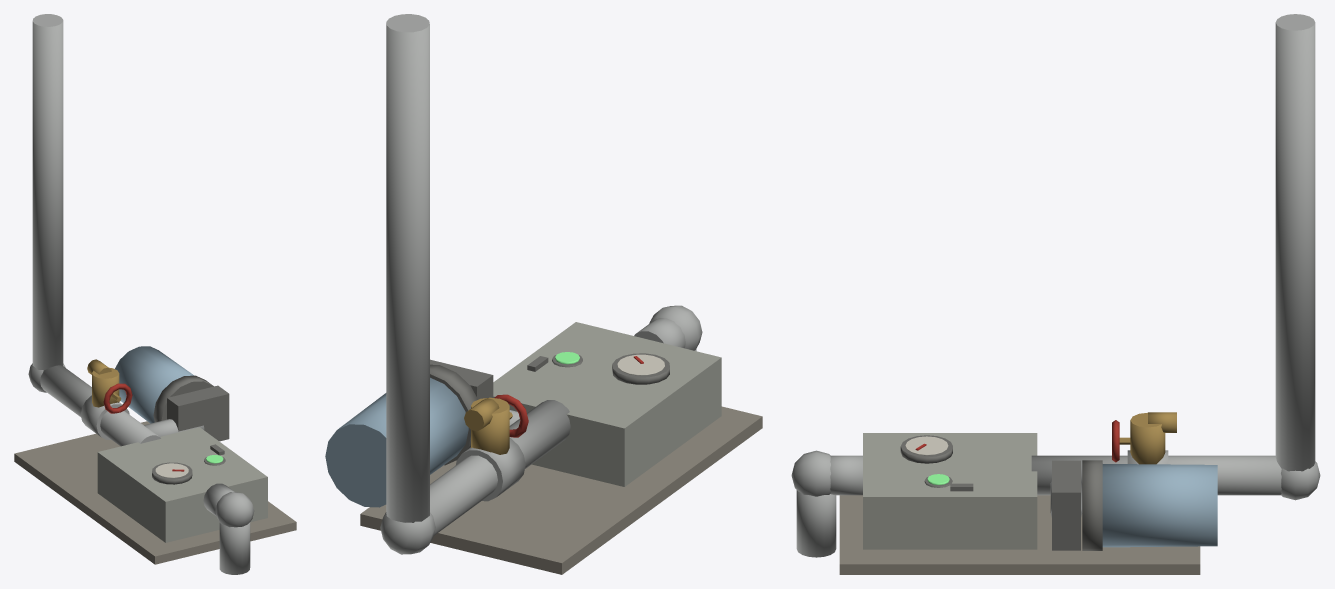
File: house_inlet_filter.obj
The picture shows the model from 3 angles, left to right: view 1: azimuth 30°, elevation 25°; view 2: azimuth 150°, elevation 25°; view 3: azimuth 270°, elevation 25°; orthographic projection. The views are drawn at different scales.
Visible parts, largest first — view 1: inlet_box, feed, backboard, filter_bowl, riser, filter_head, to_wall, to_wall_elbow, filter_ring, bib_body, bib_tee, to_wall_nipple (+4 smaller); view 2: feed, inlet_box, backboard, filter_bowl, riser, feed_elbow, bib_tee, bib_body, filter_ring, to_wall_elbow, to_wall_nipple, filter_head (+3 smaller); view 3: inlet_box, feed, backboard, filter_bowl, riser, filter_head, to_wall, filter_ring, to_wall_elbow, bib_body, to_wall_nipple, feed_elbow.
Part boxes in pixels (<box>): inlet_box: <box>97,427,267,542</box>; feed: <box>32,14,63,370</box>; backboard: <box>14,421,296,564</box>; filter_bowl: <box>115,346,193,423</box>; riser: <box>40,365,160,446</box>; filter_head: <box>167,385,229,441</box>; to_wall: <box>219,522,250,574</box>; to_wall_elbow: <box>215,492,254,527</box>; filter_ring: <box>153,375,213,422</box>; bib_body: <box>92,367,119,407</box>; bib_tee: <box>80,395,129,439</box>; to_wall_nipple: <box>203,483,234,516</box>; feed: <box>386,14,429,522</box>; inlet_box: <box>493,322,721,486</box>; backboard: <box>360,406,762,574</box>; filter_bowl: <box>325,377,468,507</box>; riser: <box>430,400,570,535</box>; feed_elbow: <box>380,512,435,554</box>; bib_tee: <box>456,438,525,501</box>; bib_body: <box>471,397,509,454</box>; filter_ring: <box>430,364,477,465</box>; to_wall_elbow: <box>649,305,702,350</box>; to_wall_nipple: <box>634,318,685,348</box>; filter_head: <box>430,359,493,399</box>; inlet_box: <box>863,433,1037,549</box>; feed: <box>1275,14,1315,471</box>; backboard: <box>839,495,1200,574</box>; filter_bowl: <box>1102,464,1217,547</box>; riser: <box>1031,455,1281,495</box>; filter_head: <box>1052,460,1080,550</box>; to_wall: <box>796,490,836,557</box>; filter_ring: <box>1082,460,1102,550</box>; to_wall_elbow: <box>791,450,830,496</box>; bib_body: <box>1130,412,1165,464</box>; to_wall_nipple: <box>830,455,862,495</box>; feed_elbow: <box>1281,461,1320,500</box>.
Size of the model in its own units: 0.413 by 1 by 0.91.
Materials: 11 (11 with a texture image).
